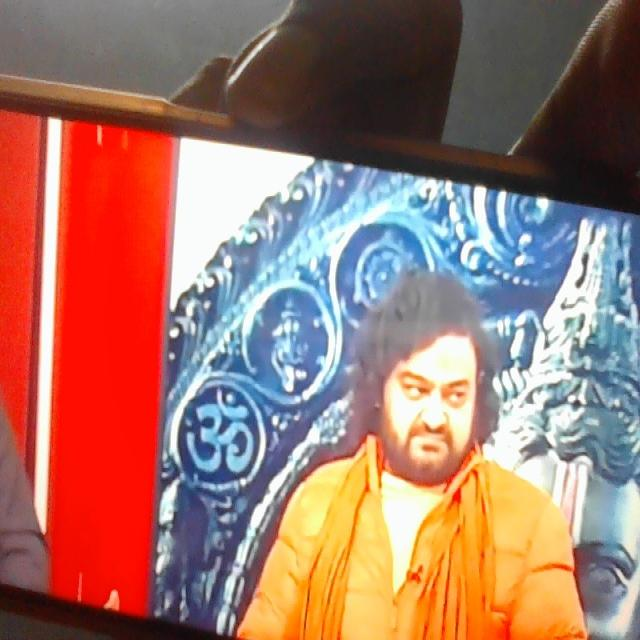fake: (351, 231, 504, 520)
